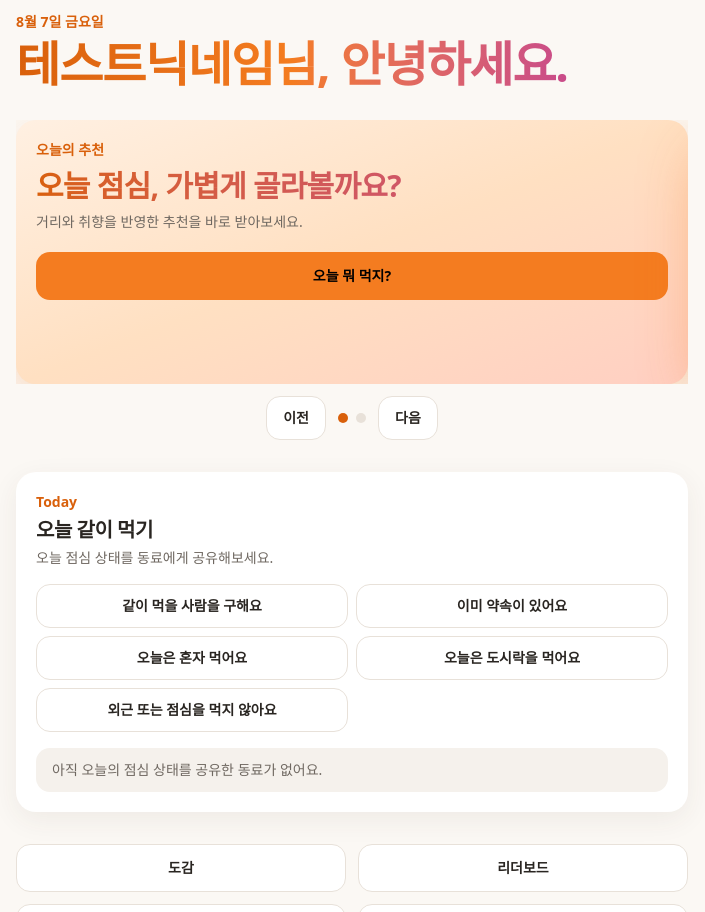
it: HomePage › planned 방문은 즉시 방문 확인 카드로 보여준다
What coordinates should you click on to do the following:
click the button named "2번째 Hero"
I would click on:
 (361, 418)
Its box is [356,413,366,423].
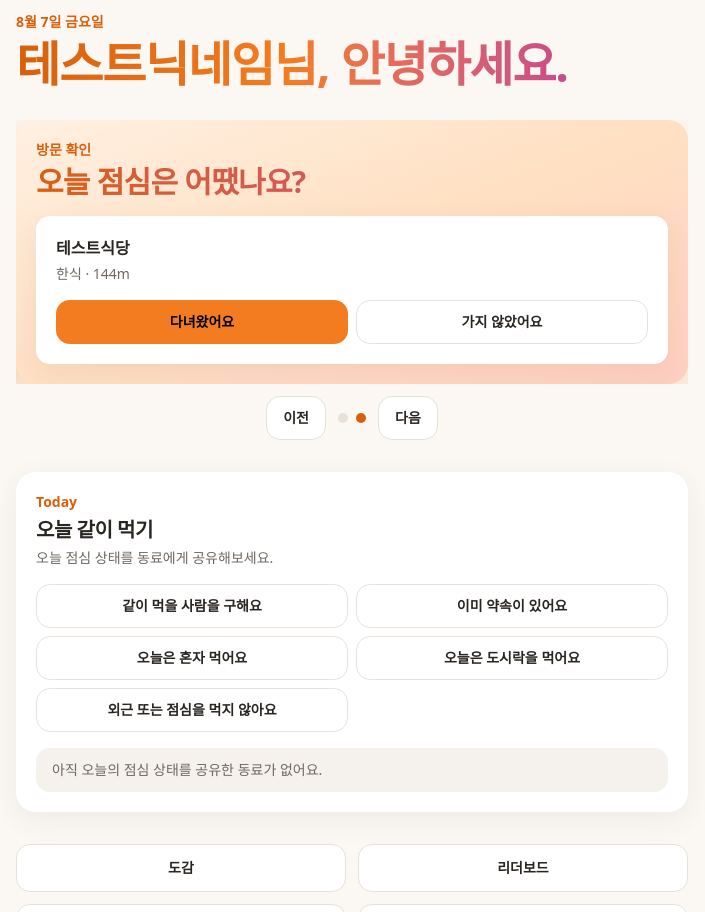
Expected: the text "방문 확인" is shown, [36,140,91,159]
Expected: the text "테스트식당" is shown, [56,237,130,259]
